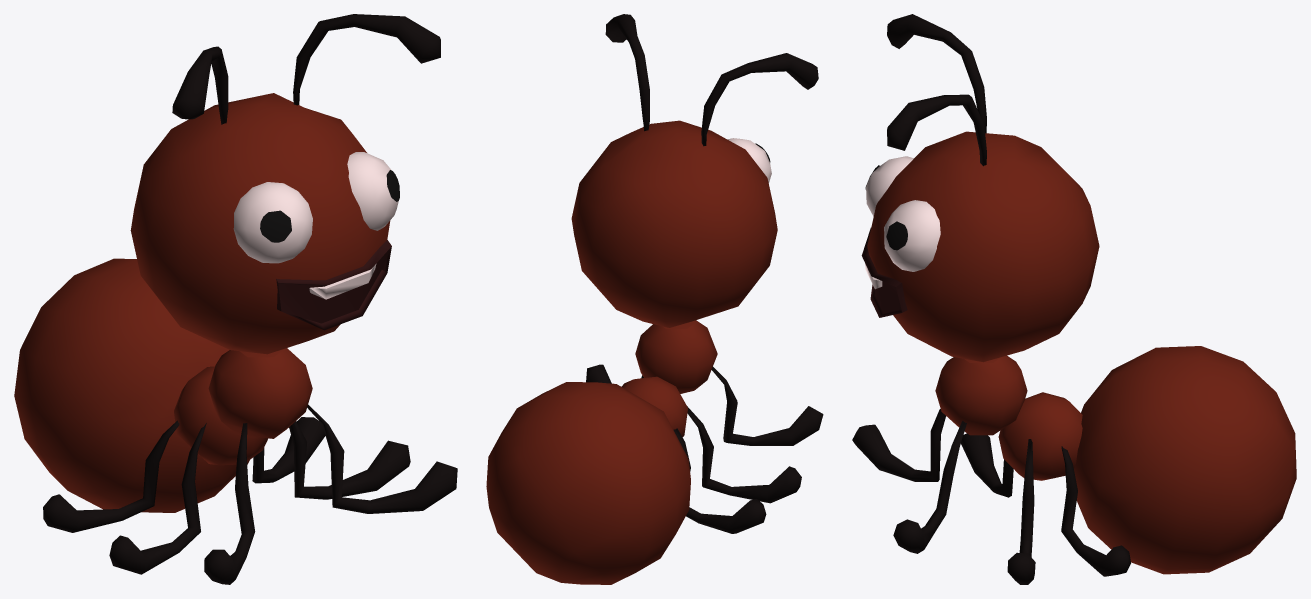
Rendered from Ant_.fbx.
3 renders of one model, left to right at view 1: azimuth 30°, elevation 25°; view 2: azimuth 150°, elevation 25°; view 3: azimuth 270°, elevation 25°, orthographic. The views are drawn at different scales.
Visible parts, largest first — view 1: ANT_001; view 2: ANT_001; view 3: ANT_001.
Part boxes in pixels (x1,y1,x2,y2): ANT_001: (14, 14, 457, 584); ANT_001: (486, 14, 823, 584); ANT_001: (852, 14, 1296, 584).
Size of the model in its own units: 1.51 by 2.46 by 1.96.
